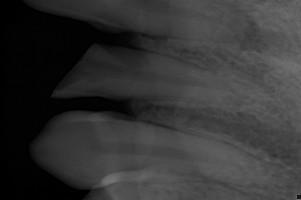Furcation Involvement: (202, 0, 289, 55)
